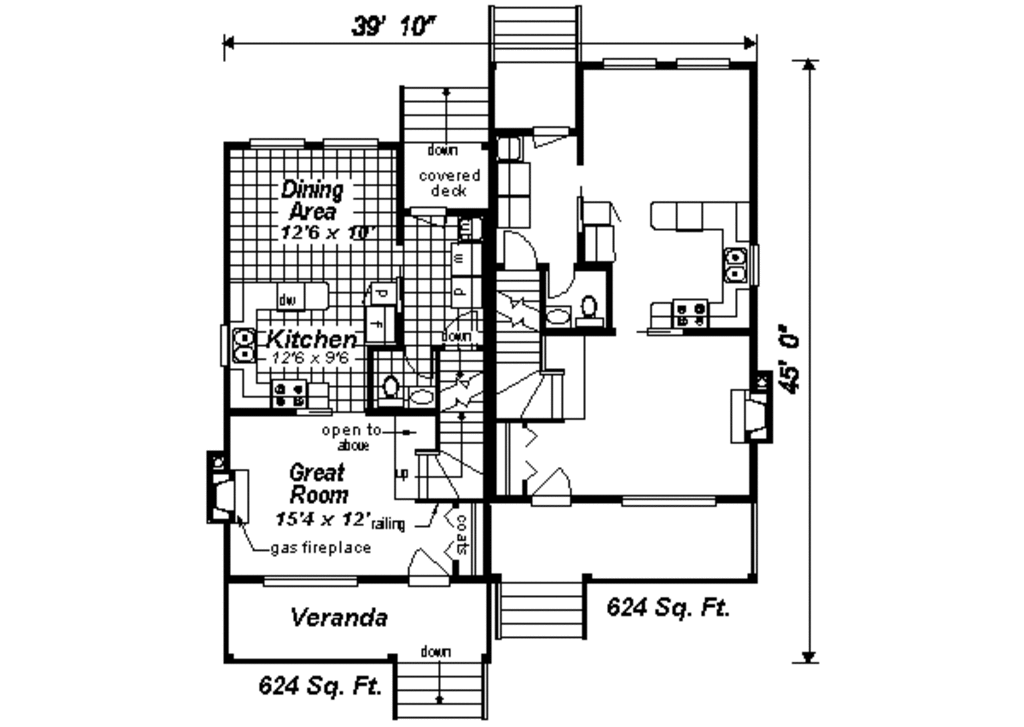door: (534, 460, 578, 514), (498, 219, 542, 269), (409, 539, 448, 589), (539, 264, 573, 295)
large_sink: (574, 289, 611, 328), (374, 368, 402, 410)
small_sink: (545, 306, 574, 333), (407, 380, 434, 405)
stairs: (500, 276, 593, 418), (397, 73, 493, 205), (484, 1, 581, 130), (420, 339, 492, 500), (384, 650, 500, 722), (493, 575, 591, 644)
twin_sink: (712, 243, 752, 290), (230, 326, 264, 370)
window: (263, 563, 363, 595), (620, 489, 723, 513), (321, 130, 381, 153), (671, 49, 733, 71), (596, 51, 656, 72), (246, 134, 311, 152)
